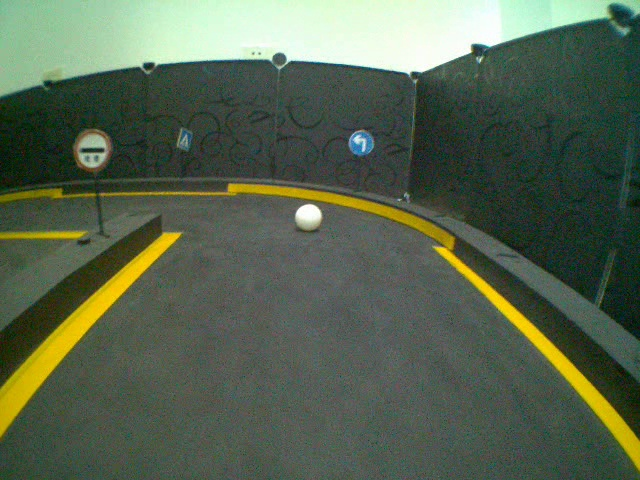ball: (294, 202, 323, 234)
